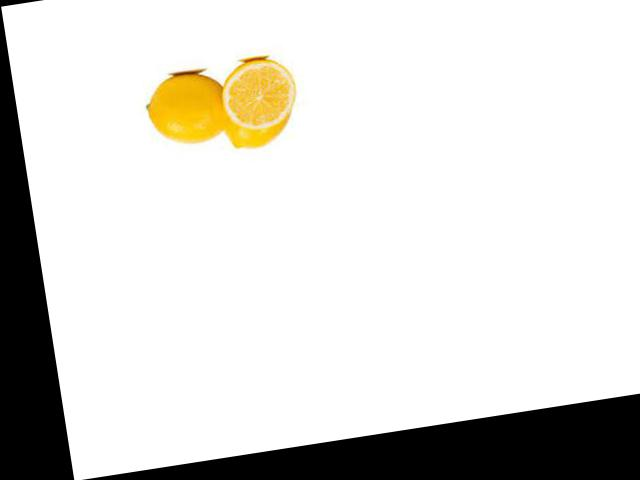lemon: (131, 41, 245, 155)
